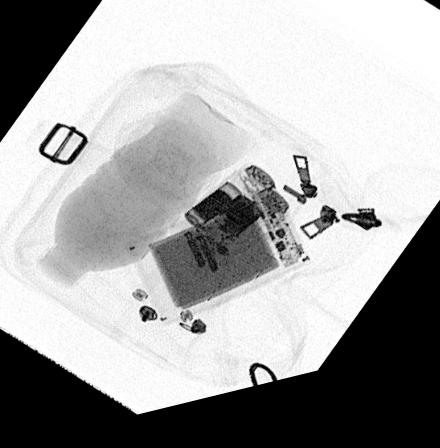Powerbank: (125, 203, 313, 333)
